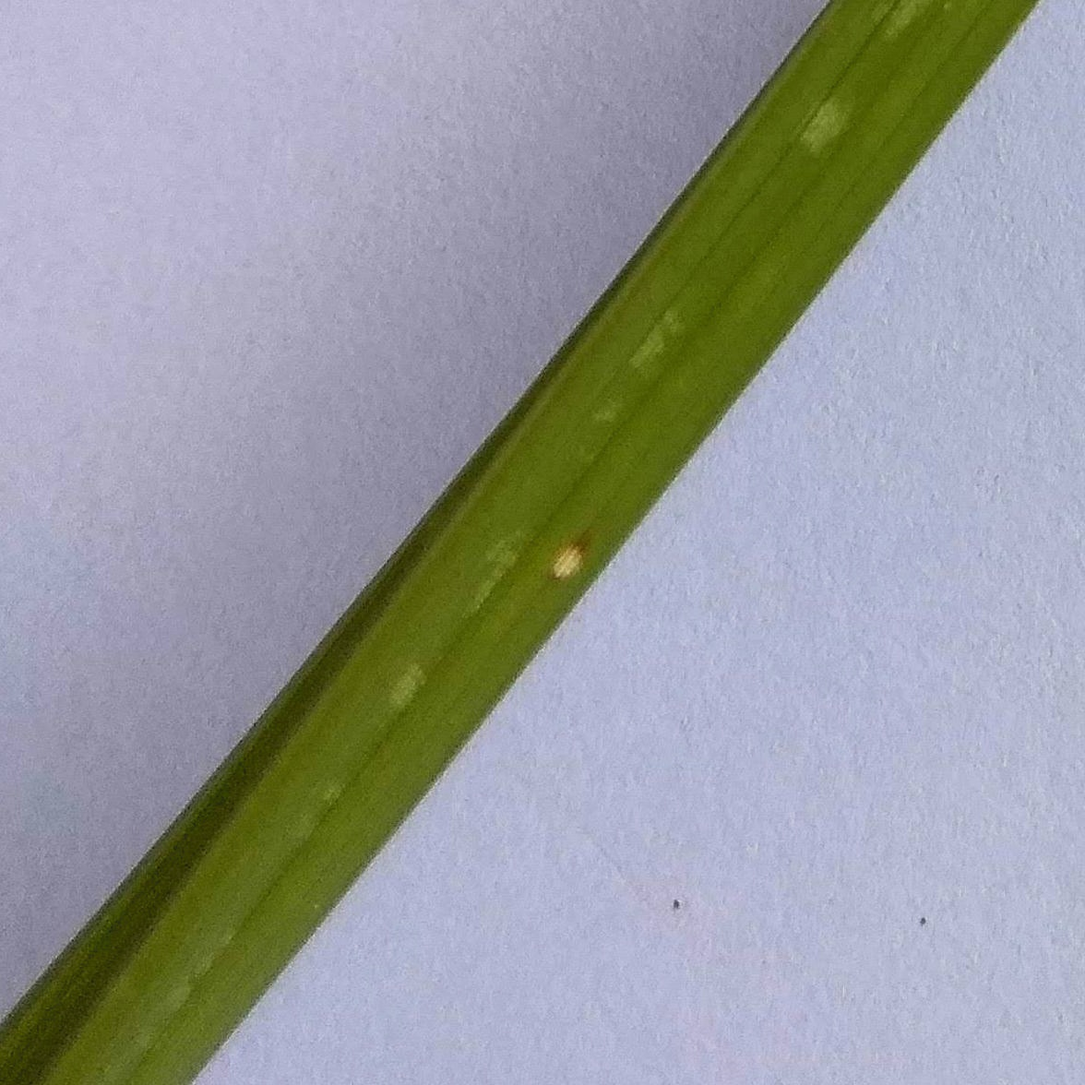Brown_Spot: (553, 519, 597, 584)
